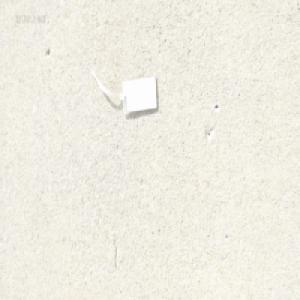LuggageTag: (86, 69, 158, 117)
